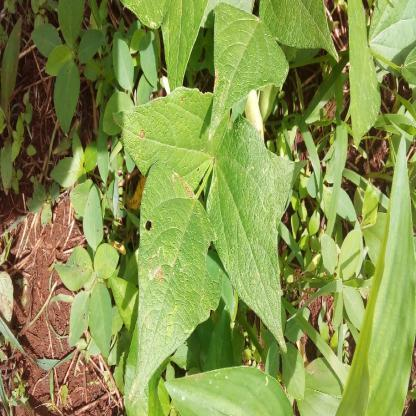Beans_Angular_LeafSpot: (142, 165, 220, 387), (116, 85, 220, 191), (207, 4, 290, 125)
